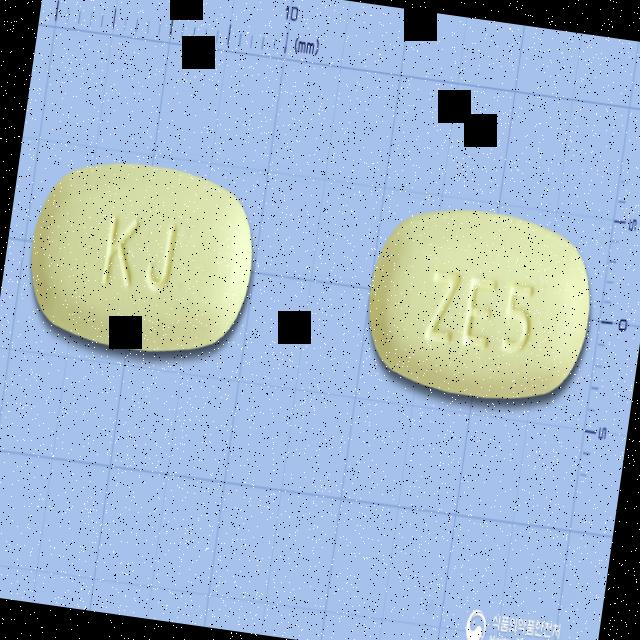Jecla: (20, 149, 265, 367), (358, 196, 602, 413)
